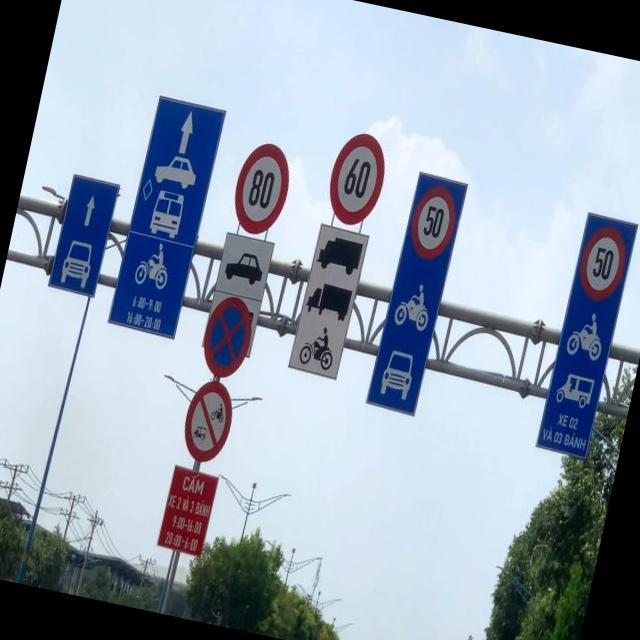P-104: (176, 379, 238, 465)
P-127: (320, 128, 392, 230), (224, 139, 298, 238)
P-130: (195, 294, 258, 382)
